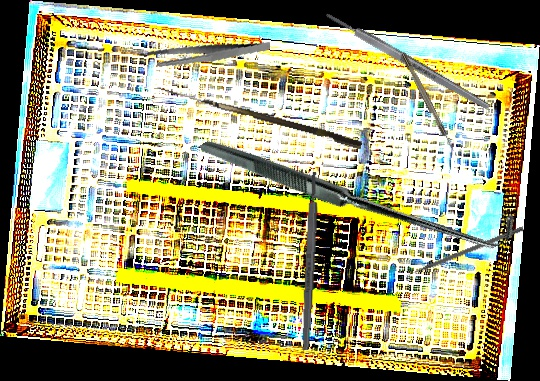Dressing Forceps: (146, 23, 271, 84)
Hook Surgical: (199, 26, 522, 351), (154, 86, 364, 150), (398, 225, 525, 281), (400, 51, 456, 153)
Scalpel Handle: (322, 8, 493, 114), (300, 171, 320, 351)
